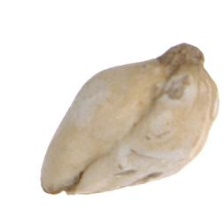L1: (154, 41, 206, 71), (36, 171, 87, 197)
L2: (39, 42, 219, 196)
